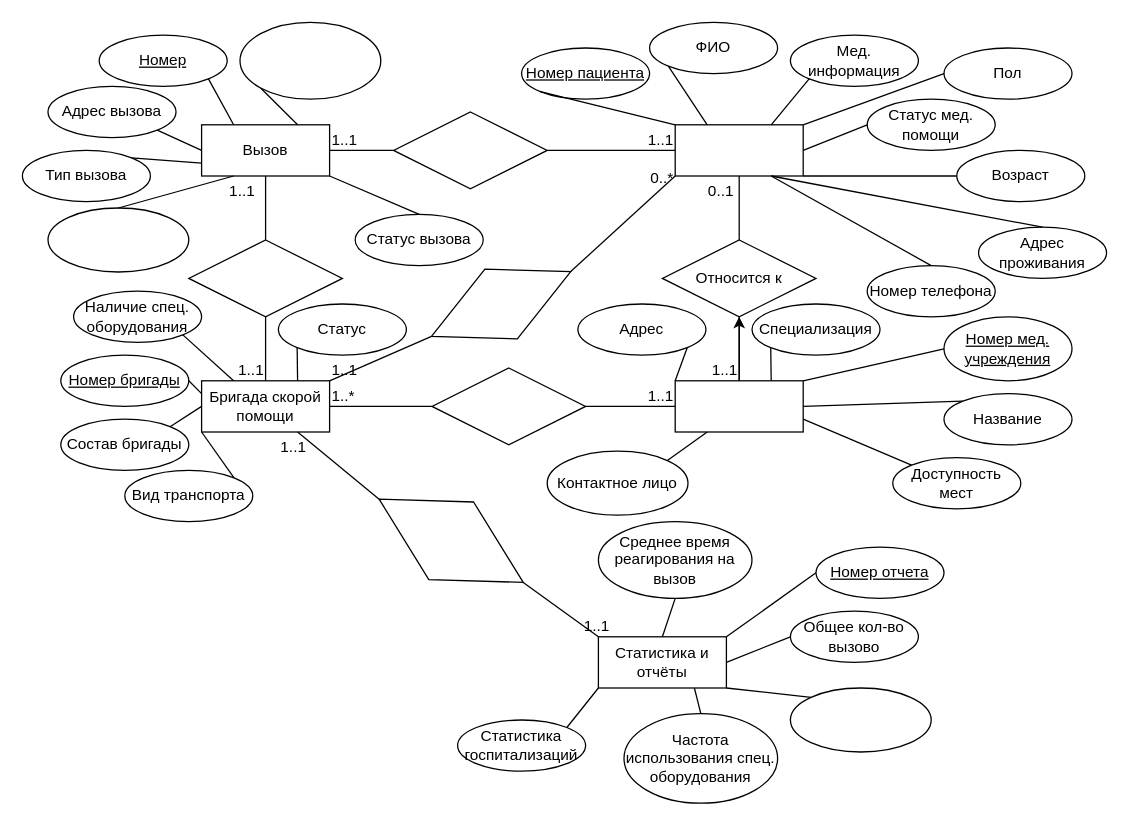
Some shapes in this 1129 by 826 pixel diagram are drawn without their labels. Here are the shapes that lost their labels. From the top down, the box of each, then its label:
(239, 21, 381, 99): Дата и время поступления вызова
(392, 111, 547, 189): Поступил от
(674, 124, 803, 176): Пациент
(47, 207, 189, 272): Состояние пациента при вызове
(188, 239, 342, 317): Приняла
(414, 235, 587, 371): Лечит
(431, 367, 586, 445): Принадлежит к
(674, 380, 803, 432): Мед. учреждение
(355, 459, 546, 621): Предоставляет данные
(789, 687, 931, 752): Кол-во вызов по категориям
